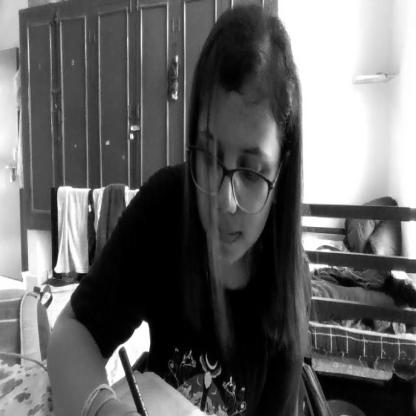Normal: (191, 5, 292, 270)
